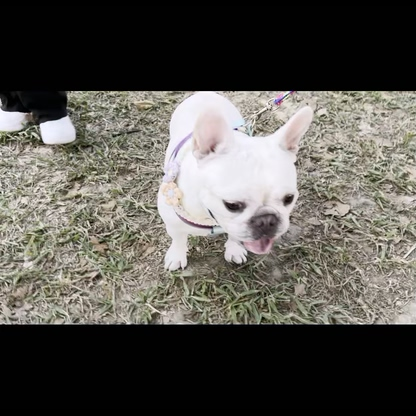bulldog: (151, 92, 321, 273)
